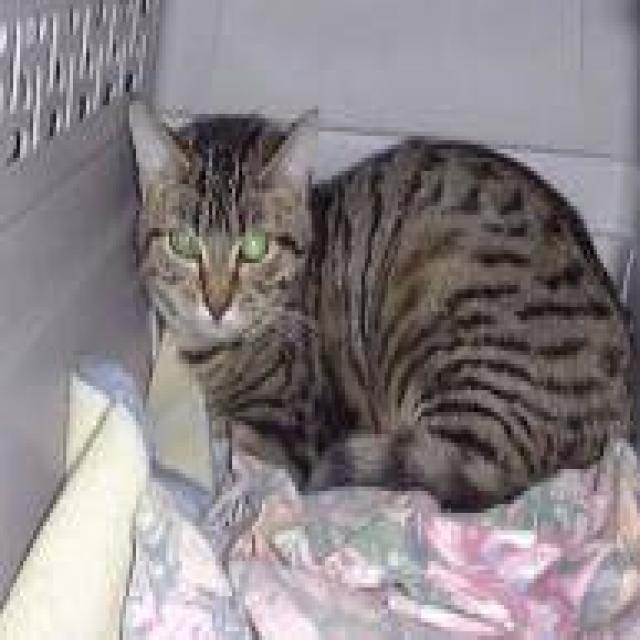cat: (126, 96, 637, 508)
